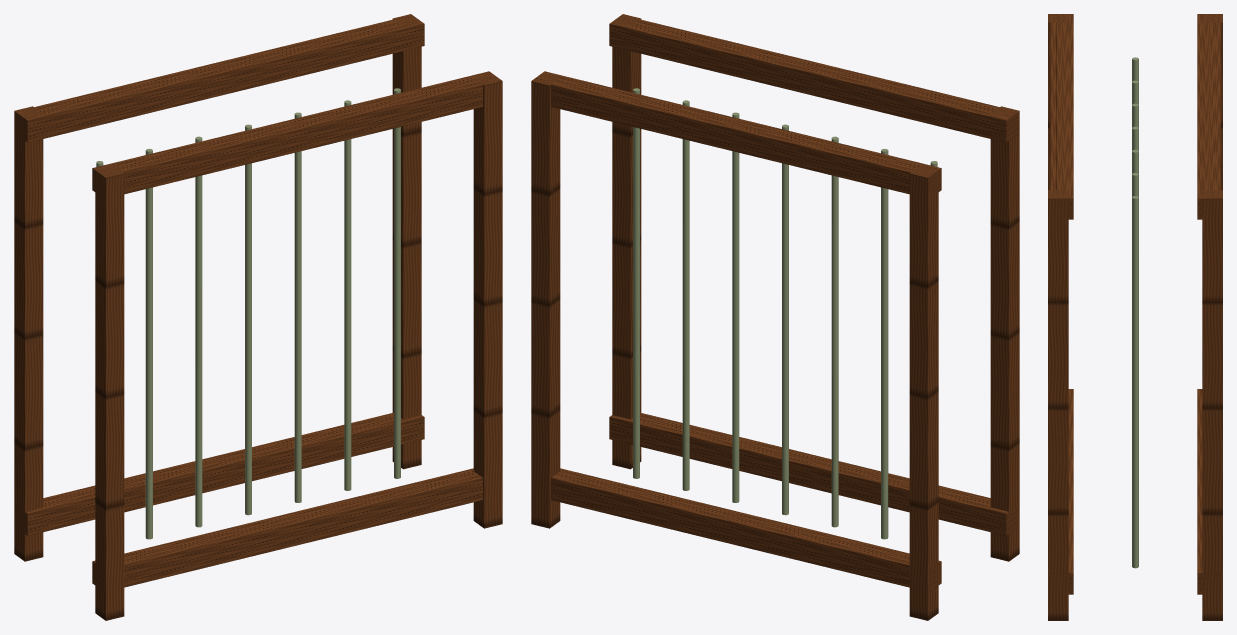
File: prehistoric-survivor-settlement-cordage-drying-frame-b2c9b196__23216.glb
3 views of the same model, side by side, from view 1: azimuth 30°, elevation 25°; view 2: azimuth 150°, elevation 25°; view 3: azimuth 270°, elevation 25° (orthographic). The views are drawn at different scales.
Parts seen in each view (by area): view 1: cordage-drying-frame; view 2: cordage-drying-frame; view 3: cordage-drying-frame.
Part boxes in pixels (<box>): cordage-drying-frame: <box>14,14,502,620</box>; cordage-drying-frame: <box>531,14,1019,620</box>; cordage-drying-frame: <box>1048,14,1222,620</box>.
Bounding box in the file's own units: 1.5 × 1.6 × 0.6001.
Materials: 2 (1 with a texture image).
